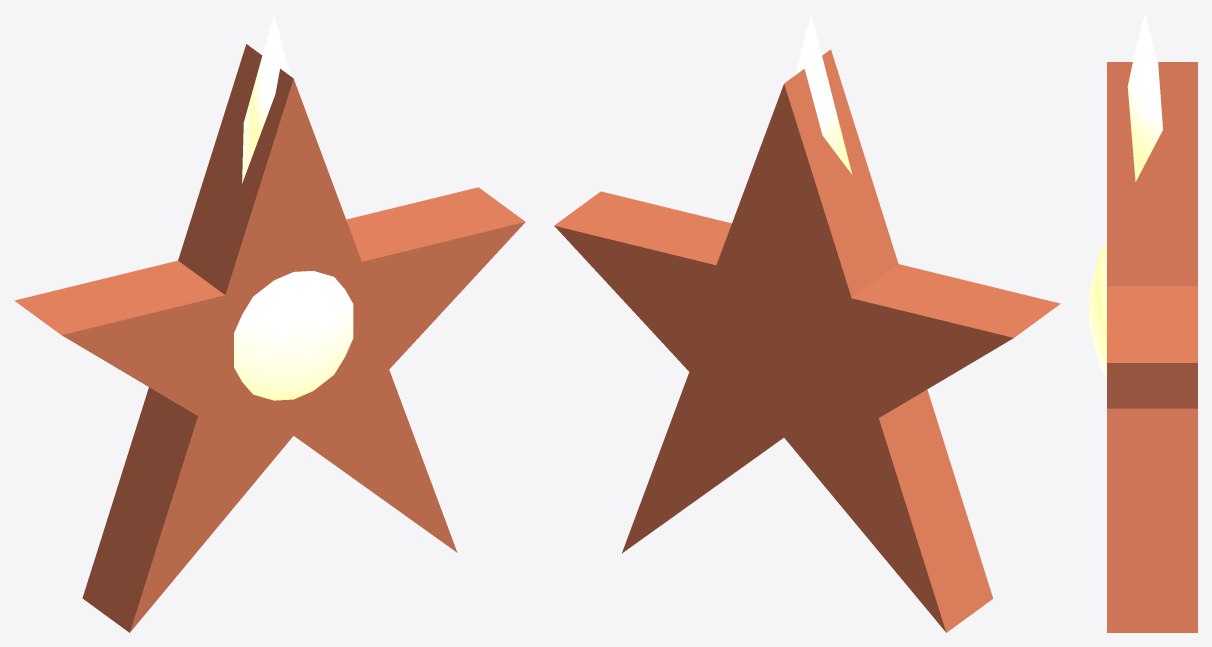
The model's file is xy_item_imprint_spark.glb.
3 views of the same model, side by side, from view 1: azimuth 30°, elevation 25°; view 2: azimuth 150°, elevation 25°; view 3: azimuth 270°, elevation 25° (orthographic). The views are drawn at different scales.
Visible parts, largest first — view 1: SparkBody, SparkCore, SparkTip; view 2: SparkBody, SparkTip; view 3: SparkBody, SparkTip, SparkCore.
Boxes of the visible parts, <box> form: SparkBody: <box>14,44,525,632</box>; SparkCore: <box>234,271,353,400</box>; SparkTip: <box>242,14,290,183</box>; SparkBody: <box>554,49,1060,632</box>; SparkTip: <box>795,14,852,174</box>; SparkBody: <box>1107,62,1197,632</box>; SparkTip: <box>1127,14,1162,181</box>; SparkCore: <box>1089,242,1106,375</box>.
Bounding box in the file's own units: 0.68 × 0.79 × 0.1436.
